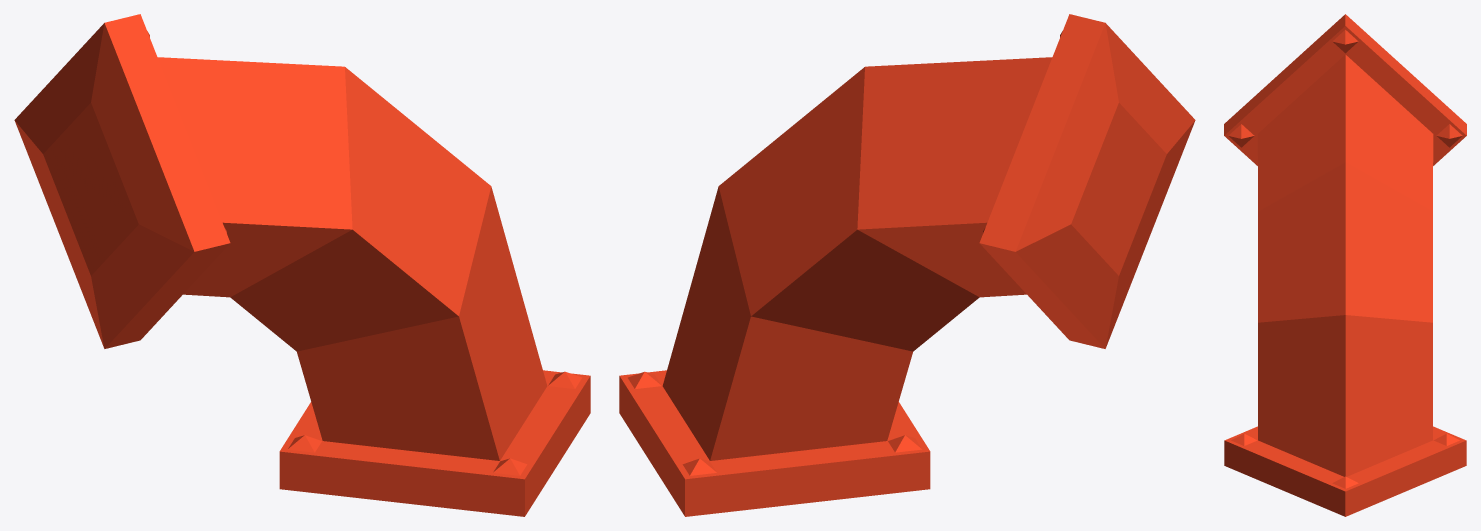
File: SM_Pipe_Elbow_City.fbx
3 renders of one model, left to right at view 1: azimuth 30°, elevation 25°; view 2: azimuth 150°, elevation 25°; view 3: azimuth 270°, elevation 25°, orthographic. The views are drawn at different scales.
Parts seen in each view (by area): view 1: SM_Pipe_Elbow_City; view 2: SM_Pipe_Elbow_City; view 3: SM_Pipe_Elbow_City.
Part boxes in pixels (box(x1,y1,x2,y2)): SM_Pipe_Elbow_City: box(14, 14, 590, 516); SM_Pipe_Elbow_City: box(619, 14, 1195, 516); SM_Pipe_Elbow_City: box(1224, 14, 1466, 516).
Bounding box in the file's own units: 0.1481 × 0.1482 × 0.0925.
